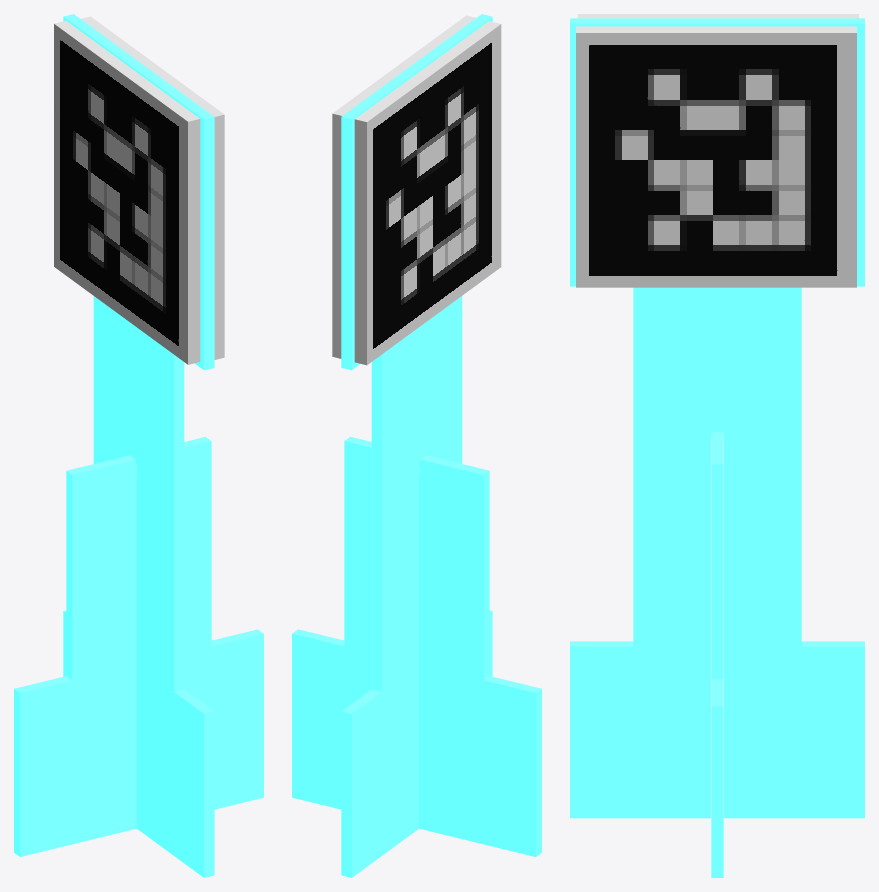
The model's file is creeper.dae.
The picture shows the model from 3 angles, left to right: view 1: azimuth 30°, elevation 25°; view 2: azimuth 150°, elevation 25°; view 3: azimuth 270°, elevation 25°; orthographic projection. The views are drawn at different scales.
Visible parts, largest first — view 1: Creeper_-_Montagem_v3, MarkerData, MarkerData_001; view 2: Creeper_-_Montagem_v3, MarkerData, MarkerData_001; view 3: Creeper_-_Montagem_v3, MarkerData_001, MarkerData.
Part boxes in pixels (x1,y1,x2,y2): Creeper_-_Montagem_v3: [14, 14, 263, 877]; MarkerData: [54, 20, 200, 364]; MarkerData_001: [81, 16, 224, 359]; Creeper_-_Montagem_v3: [292, 14, 541, 877]; MarkerData: [354, 21, 501, 365]; MarkerData_001: [332, 15, 475, 358]; Creeper_-_Montagem_v3: [570, 18, 864, 877]; MarkerData_001: [576, 26, 856, 287]; MarkerData: [577, 14, 858, 18].
Bounding box in the file's own units: 0.063 × 0.063 × 0.1872.
2 materials, 1 textured.
